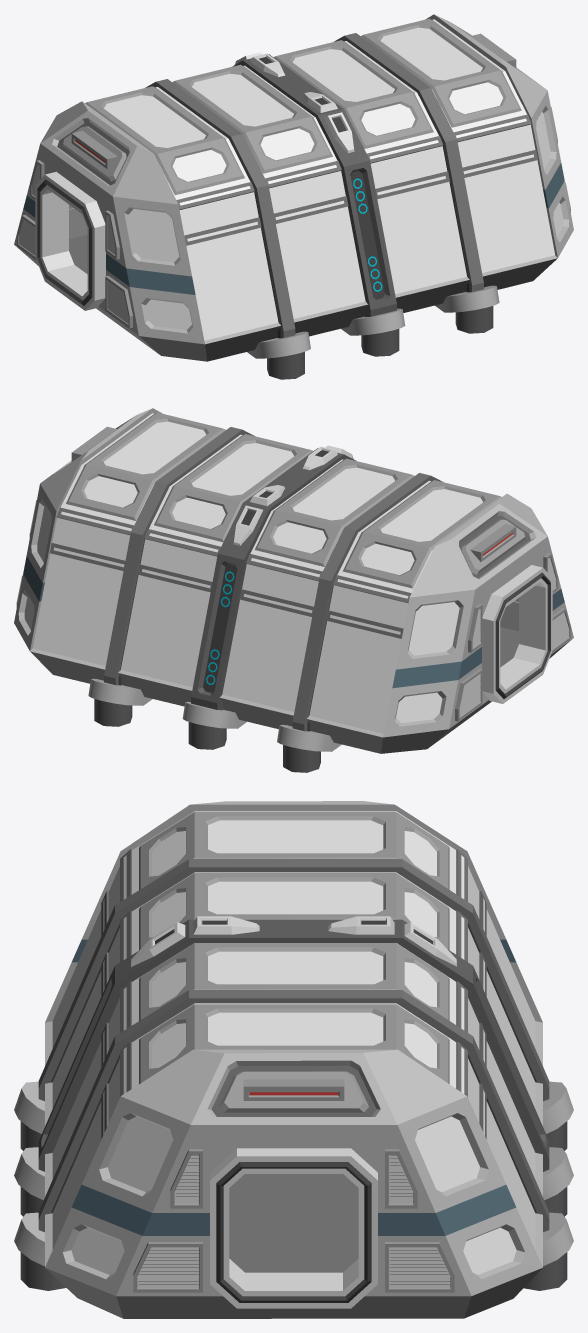
Rendered from section_003.fbx.
3 renders of one model, top to bottom at view 1: azimuth 30°, elevation 25°; view 2: azimuth 150°, elevation 25°; view 3: azimuth 270°, elevation 25°, orthographic. The views are drawn at different scales.
Visible parts, largest first — view 1: section_003; view 2: section_003; view 3: section_003.
Boxes of the visible parts, x1,y1,x2,y2 form: section_003: (14, 14, 573, 379); section_003: (14, 408, 573, 772); section_003: (14, 801, 573, 1318).
Bounding box in the file's own units: 1470 × 1085 × 625.
